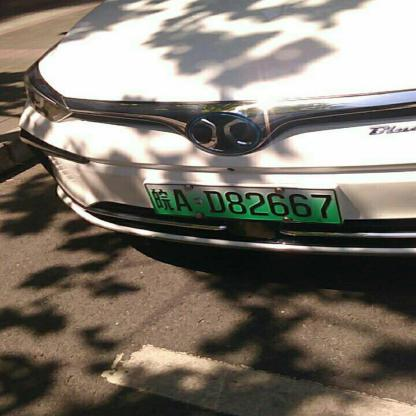lp: (146, 184, 341, 223)
